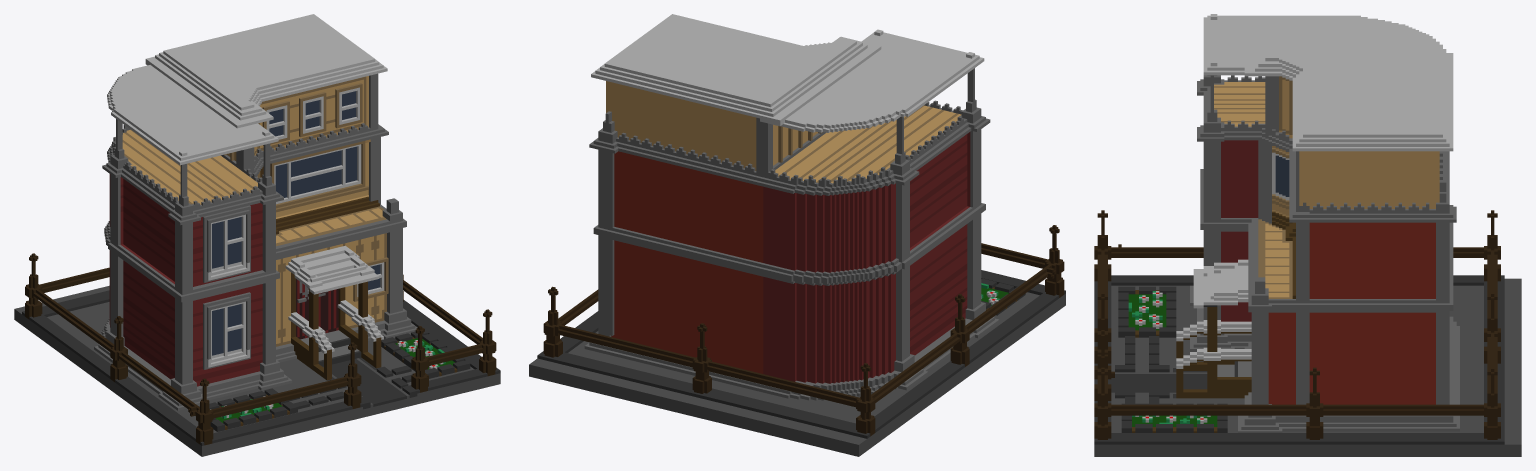
The model's file is ylica goroda-8.obj.
The picture shows the model from 3 angles, left to right: view 1: azimuth 30°, elevation 25°; view 2: azimuth 150°, elevation 25°; view 3: azimuth 270°, elevation 25°; orthographic projection. The views are drawn at different scales.
Size of the model in its own units: 11.5 by 9.8 by 12.5.
1 material, 1 textured.
